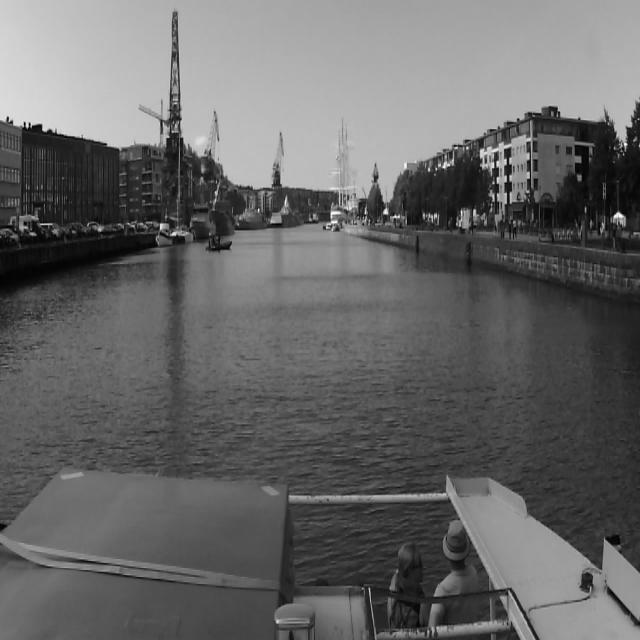ship: (326, 154, 360, 220), (192, 193, 216, 236), (208, 200, 236, 233), (236, 204, 267, 230), (281, 195, 298, 228), (206, 233, 232, 251), (156, 224, 172, 245), (332, 221, 340, 232)
